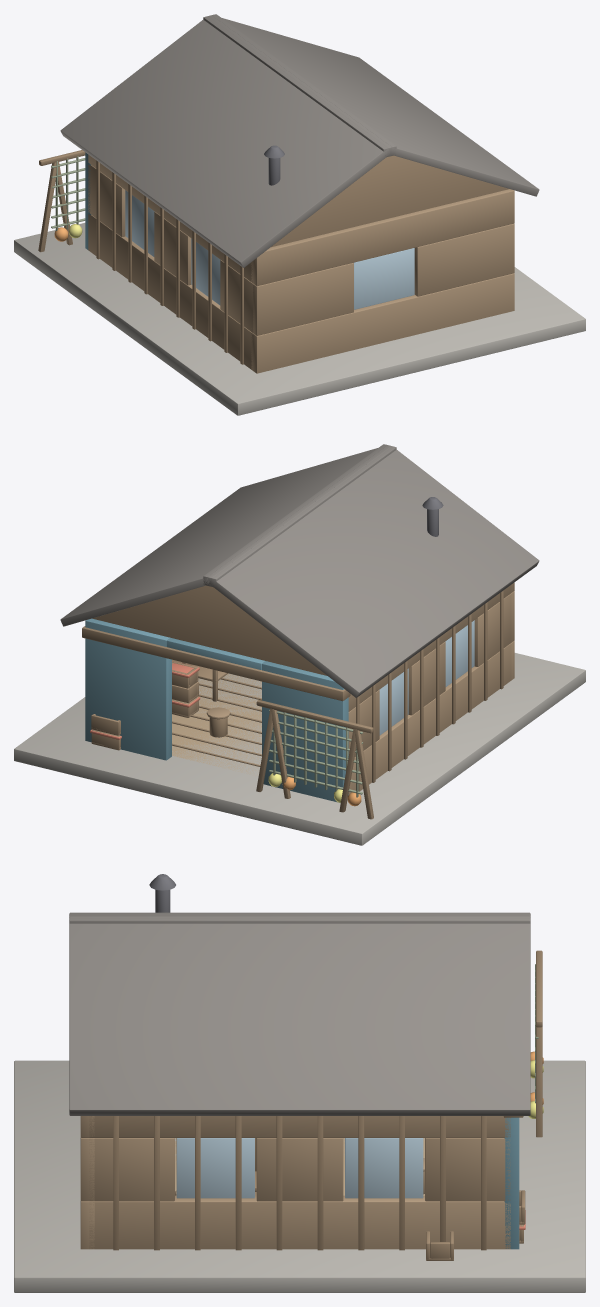
The model's file is th15_fischerhuette.glb.
3 renders of one model, top to bottom at view 1: azimuth 30°, elevation 25°; view 2: azimuth 150°, elevation 25°; view 3: azimuth 270°, elevation 25°, orthographic. The views are drawn at different scales.
Visible parts, largest first — view 1: Cube.058, Cube, Cube.059, Cube.018, Cube.019, Giebel, Cube.023, Cube.020, Cube.021, Cube.022, Cube.060, Cube.026 (+6 smaller); view 2: Cube.058, Cube, Cube.059, Cube.016, Giebel.001, Cube.015, Cube.001, Cube.023, Cube.057, Cube.060, Cube.025, Cube.026 (+10 smaller); view 3: Cube.059, Cube, Cube.040, Cube.041, Cube.060, Cube.043, Cube.042, Cube.044, Cube.045, Cube.046, Cube.016, Cube.021 (+13 smaller).
Boxes of the visible parts, box(x1,y1,x2,y2) form: Cube.058: box(60, 16, 390, 267); Cube: box(14, 223, 585, 415); Cube.059: box(212, 15, 539, 196); Cube.018: box(251, 273, 514, 373); Cube.019: box(251, 189, 514, 286); Giebel: box(271, 155, 508, 247); Cube.023: box(88, 214, 252, 369); Cube.020: box(252, 263, 353, 335); Cube.021: box(414, 223, 514, 296); Cube.022: box(354, 248, 414, 309); Cube.060: box(203, 14, 396, 157); Cube.026: box(154, 211, 191, 285); Cube.058: box(209, 446, 539, 697); Cube: box(14, 653, 585, 845); Cube.059: box(60, 445, 387, 626); Cube.016: box(85, 618, 171, 760); Giebel.001: box(92, 585, 326, 675); Cube.015: box(262, 661, 348, 802); Cube.001: box(172, 673, 261, 775); Cube.023: box(348, 643, 511, 794); Cube.057: box(82, 626, 350, 701); Cube.060: box(203, 444, 396, 587); Cube.025: box(474, 593, 511, 666); Cube.026: box(408, 641, 445, 715); Cube.059: box(69, 917, 530, 1115); Cube: box(14, 1060, 585, 1292); Cube.040: box(89, 1195, 510, 1249); Cube.041: box(89, 1116, 510, 1137); Cube.060: box(69, 912, 530, 923); Cube.043: box(256, 1138, 343, 1201); Cube.042: box(89, 1138, 174, 1201); Cube.044: box(425, 1138, 510, 1201); Cube.045: box(176, 1138, 254, 1198); Cube.046: box(345, 1138, 423, 1198); Cube.016: box(504, 1117, 519, 1249); Cube.021: box(80, 1138, 94, 1201).
Bounding box in the file's own units: 8.8 × 5.07 × 9.8.
